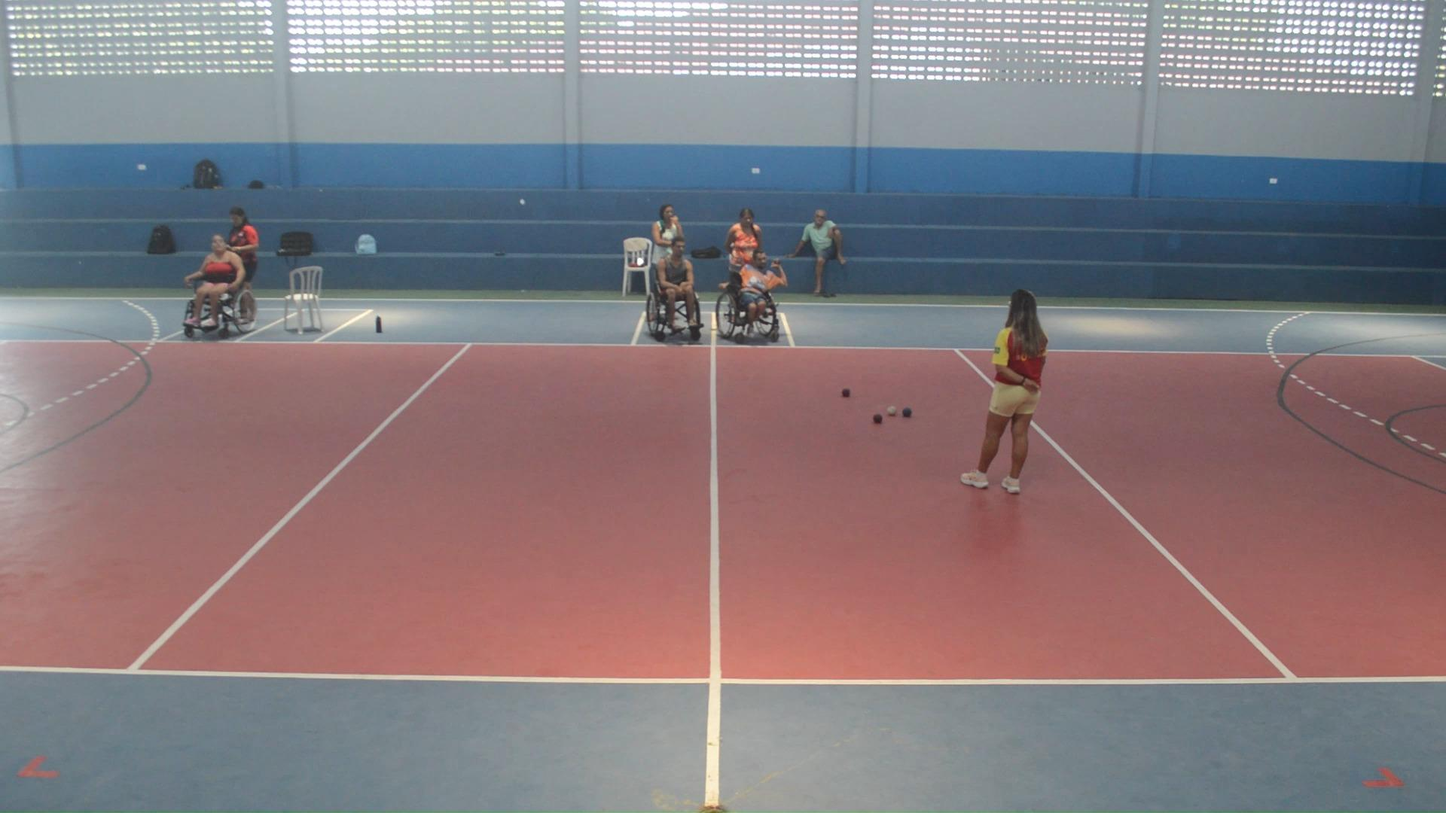blue_ball: (901, 405, 913, 418)
red_ball: (840, 387, 852, 399), (872, 413, 883, 424)
white_ball: (887, 405, 897, 417)
